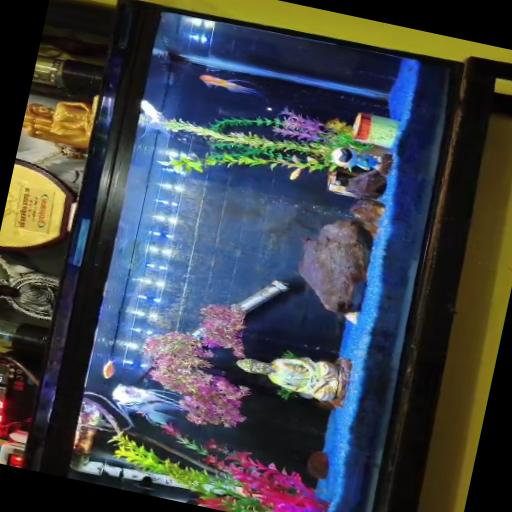Fish: (112, 384, 186, 425), (200, 75, 262, 95), (141, 101, 165, 128), (103, 361, 116, 378)
